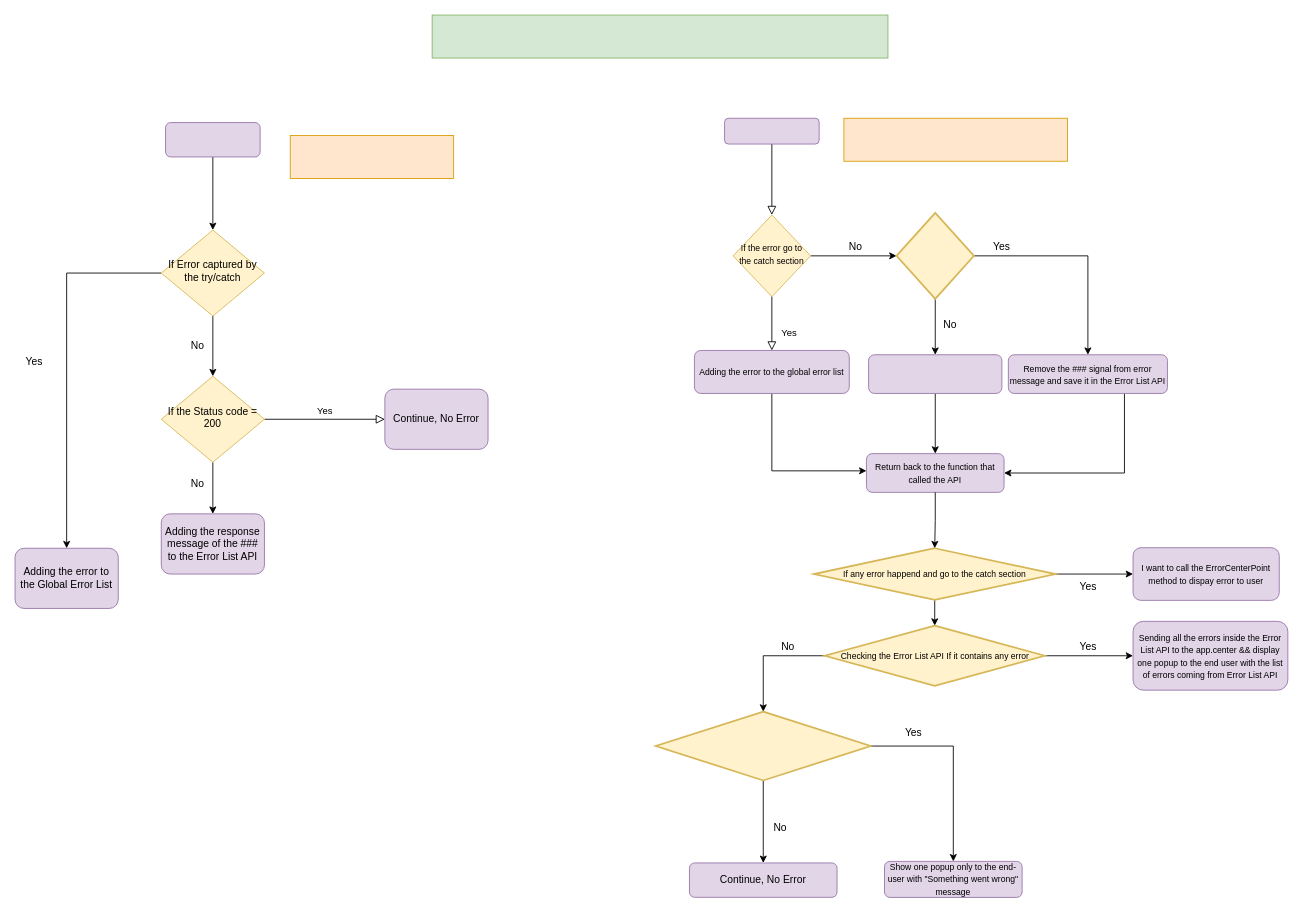
Some shapes in this 1303 by 913 pixel diagram are drawn without their labels. The shapes that lost their labels are listed below. From the top down, each one's box as (x1, y1, x2, y2) in pixels, then its label:
(431, 14, 888, 58): Error Handling for the cases of API section
(165, 122, 260, 157): The response coming from API
(724, 117, 819, 144): The response coming from API with error
(843, 117, 1068, 161): Cases of response from POST API
(289, 135, 454, 178): Cases of response from GET API
(895, 212, 974, 299): If the error contains ### in the error message
(868, 354, 1002, 393): save general error "Something went wrong" in the list of Error List API
(654, 710, 871, 781): Checking the global error list If it contains any error
